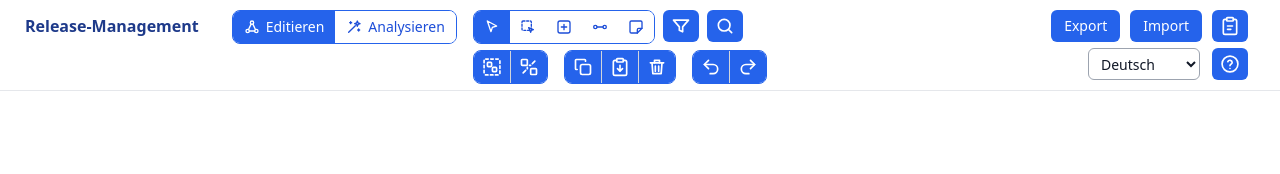
Test case: Toolbar › icons and tooltips › explains undo with its shortcut on hover
Hover over the button named "Rückgängig".
mouse_move(711, 67)  # box left=693, top=51, right=729, bottom=83
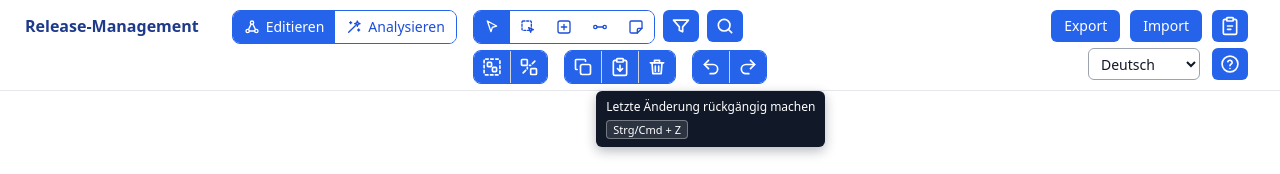
Result: the tooltip shows "Letzte Änderung rückgängig machen" at left=606, top=98, right=815, bottom=115
Result: the tooltip shows "Strg/Cmd + Z" at left=613, top=122, right=681, bottom=137
